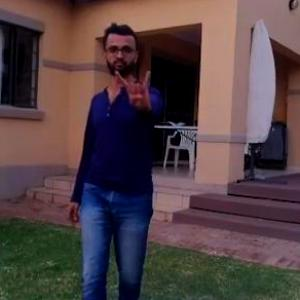takeoff-hand: (111, 63, 158, 116)
